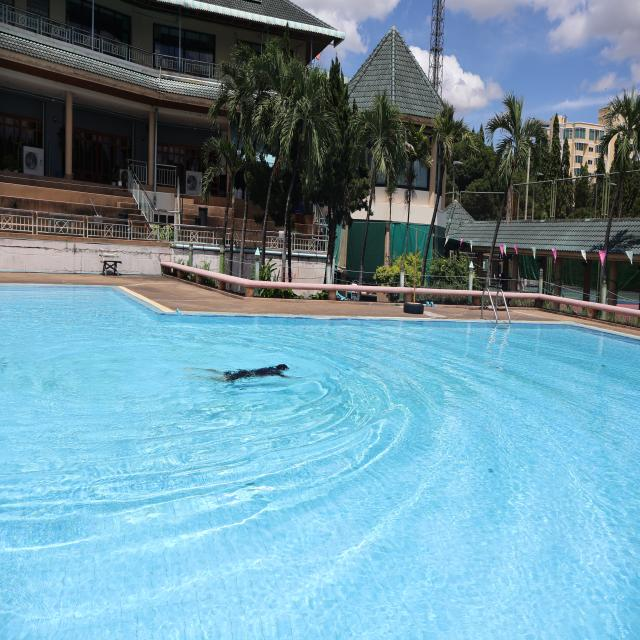Swimming: (180, 357, 314, 388)
